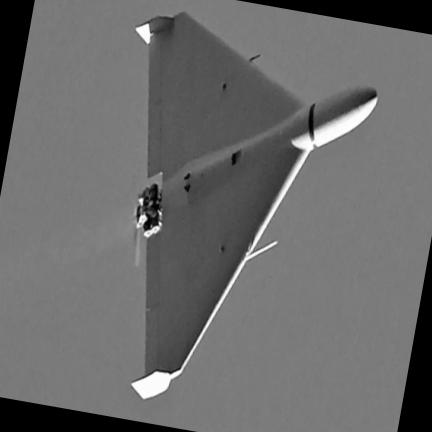Shahed: (132, 12, 377, 399)
